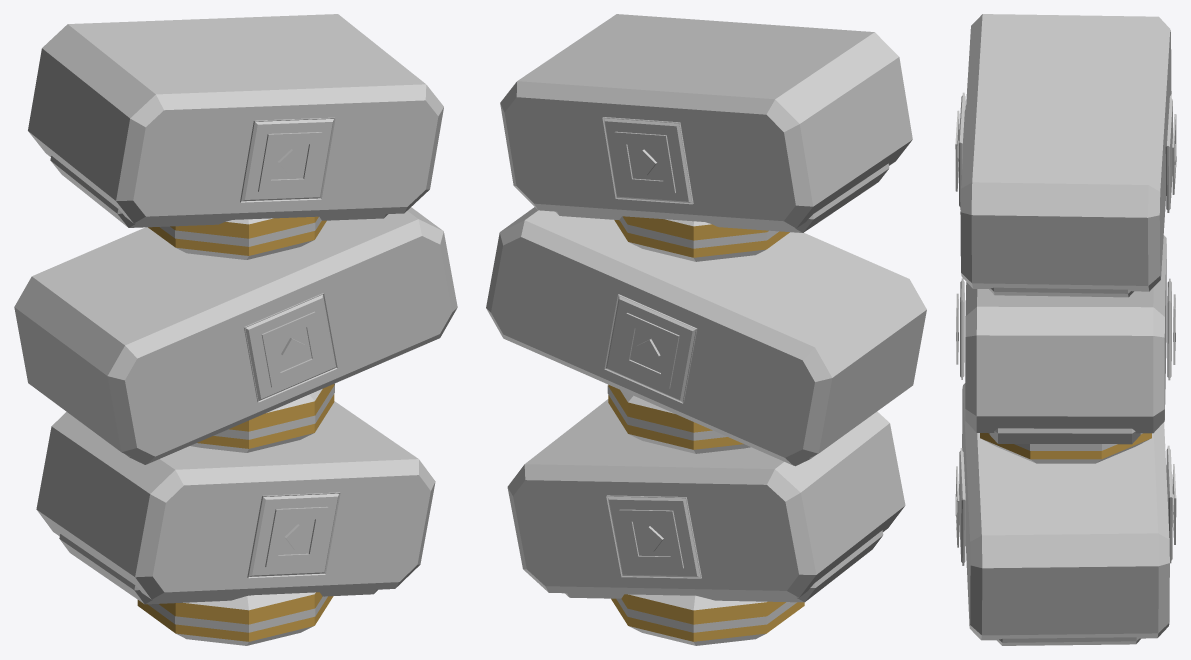
Rendered from wand_motion_13.obj.
The picture shows the model from 3 angles, left to right: view 1: azimuth 30°, elevation 25°; view 2: azimuth 150°, elevation 25°; view 3: azimuth 270°, elevation 25°; orthographic projection. The views are drawn at different scales.
Visible parts, largest first — view 1: chamfered_seal_tablet_2, chamfered_seal_tablet_1, chamfered_seal_tablet_0, tablet_spacer_0, inset_rune_socket_5, inset_rune_socket_3, inset_rune_socket_1, tablet_spacer_2, tablet_spacer_1, seal_shadow_base_0, seal_shadow_base_2, tablet_spacer_dark_seam_0 (+2 smaller); view 2: chamfered_seal_tablet_2, chamfered_seal_tablet_1, chamfered_seal_tablet_0, tablet_spacer_0, inset_rune_socket_0, inset_rune_socket_2, inset_rune_socket_4, tablet_spacer_2, tablet_spacer_1, seal_shadow_base_2, seal_shadow_base_0, tablet_spacer_dark_seam_0 (+2 smaller); view 3: chamfered_seal_tablet_2, chamfered_seal_tablet_0, chamfered_seal_tablet_1, seal_shadow_base_1, tablet_spacer_1, seal_shadow_base_2, seal_shadow_base_0, inset_rune_socket_4, inset_rune_socket_1, tablet_spacer_dark_seam_1, inset_rune_socket_0, inset_rune_socket_5 (+2 smaller).
Part boxes in pixels (box(x1,y1,x2,y2)): chamfered_seal_tablet_2: box(28, 14, 443, 223); chamfered_seal_tablet_1: box(14, 207, 457, 464); chamfered_seal_tablet_0: box(36, 401, 435, 599); tablet_spacer_0: box(137, 592, 333, 645); inset_rune_socket_5: box(240, 117, 335, 202); inset_rune_socket_3: box(244, 293, 337, 402); inset_rune_socket_1: box(247, 492, 340, 578); tablet_spacer_2: box(148, 216, 326, 259); tablet_spacer_1: box(190, 384, 334, 452); seal_shadow_base_0: box(59, 534, 377, 604); seal_shadow_base_2: box(50, 156, 388, 227); tablet_spacer_dark_seam_0: box(148, 596, 327, 632); chamfered_seal_tablet_2: box(500, 14, 912, 228); chamfered_seal_tablet_1: box(486, 207, 926, 465); chamfered_seal_tablet_0: box(507, 399, 905, 597); tablet_spacer_0: box(611, 594, 804, 645); inset_rune_socket_0: box(606, 495, 701, 578); inset_rune_socket_2: box(604, 294, 697, 403); inset_rune_socket_4: box(602, 117, 693, 204); tablet_spacer_2: box(614, 216, 789, 261); tablet_spacer_1: box(608, 384, 750, 453); seal_shadow_base_2: box(555, 163, 889, 232); seal_shadow_base_0: box(565, 530, 883, 602); tablet_spacer_dark_seam_0: box(616, 598, 796, 632); chamfered_seal_tablet_2: box(960, 14, 1171, 291); chamfered_seal_tablet_0: box(962, 383, 1169, 640); chamfered_seal_tablet_1: box(965, 235, 1166, 433); seal_shadow_base_1: box(989, 428, 1140, 444); tablet_spacer_1: box(980, 433, 1151, 463); seal_shadow_base_2: box(989, 287, 1133, 297); seal_shadow_base_0: box(997, 637, 1140, 645); inset_rune_socket_4: box(1165, 95, 1172, 212); inset_rune_socket_1: box(959, 448, 965, 565); tablet_spacer_dark_seam_1: box(988, 433, 1142, 450); inset_rune_socket_0: box(1166, 445, 1172, 563); inset_rune_socket_5: box(958, 92, 965, 209).
Bounding box in the file's own units: 0.1958 × 0.3103 × 0.1143.
